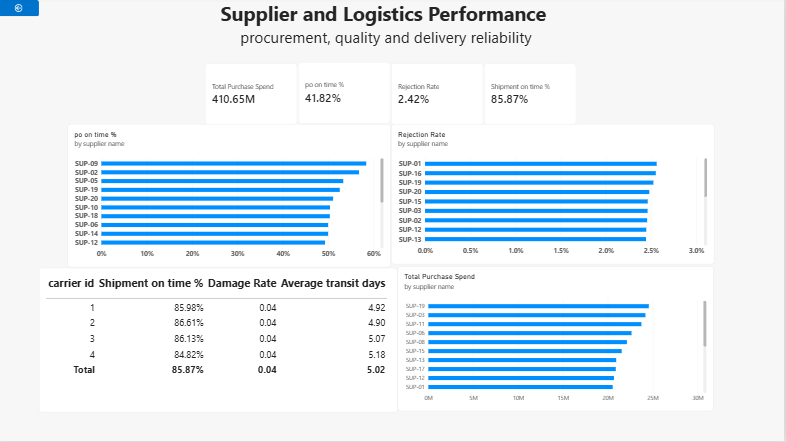

The page's visual inventory and layout, read from the dashboard file:
{"tool":"powerbi","page":{"name":"Supplier and Logistics","canvas":[1920,1080],"ordinal":2},"visuals":[{"type":"textbox","box":[10.2,0,1878.1,132],"z":0},{"type":"cardVisual","fields":{"Data":["purchase_order_line_clean.Total Purchase Spend"]},"box":[506.7,153.3,225,150],"z":1000},{"type":"cardVisual","fields":{"Data":["purchase_order_clean.po on time %"]},"box":[733.3,150,225,150],"z":2000},{"type":"cardVisual","fields":{"Data":["carrier_clean.Rejection Rate"]},"box":[960,153.3,225,150],"z":2001},{"type":"cardVisual","fields":{"Data":["shipment_clean.Shipment on time %"]},"box":[1186.7,153.3,225,150],"z":2002},{"type":"clusteredBarChart","fields":{"Category":["supplier_clean.supplier_name"],"Y":["purchase_order_clean.po on time %"]},"box":[170,303.3,790,350],"z":2003},{"type":"clusteredBarChart","fields":{"Category":["supplier_clean.supplier_name"],"Y":["carrier_clean.Rejection Rate"]},"box":[960,303.3,790,343],"z":2004},{"type":"tableEx","fields":{"Values":["carrier_clean.carrier_id","shipment_clean.Shipment on time %","shipment_clean.Damage Rate","shipment_clean.Average transit days"]},"box":[100,653.3,876.7,353.3],"z":2005},{"type":"actionButton","box":[0,0,100,40],"z":2006},{"type":"barChart","fields":{"Category":["supplier_clean.supplier_name"],"Y":["purchase_order_line_clean.Total Purchase Spend"]},"box":[977,653,773,353],"z":2007}]}

Visuals, with their boxes in screenshot pixels (x1, y1, x2, y2), scaled from the page's 1920x1080 canvas onto the 786x442 screenshot:
textbox: locate(4, 0, 773, 54)
cardVisual - purchase_order_line_clean.Total Purchase Spend: locate(207, 63, 300, 124)
cardVisual - purchase_order_clean.po on time %: locate(300, 61, 392, 123)
cardVisual - carrier_clean.Rejection Rate: locate(393, 63, 485, 124)
cardVisual - shipment_clean.Shipment on time %: locate(486, 63, 578, 124)
clusteredBarChart - supplier_clean.supplier_name x purchase_order_clean.po on time %: locate(70, 124, 393, 267)
clusteredBarChart - supplier_clean.supplier_name x carrier_clean.Rejection Rate: locate(393, 124, 716, 265)
tableEx - carrier_clean.carrier_id x shipment_clean.Shipment on time %: locate(41, 267, 400, 412)
actionButton: locate(0, 0, 41, 16)
barChart - supplier_clean.supplier_name x purchase_order_line_clean.Total Purchase Spend: locate(400, 267, 716, 412)
